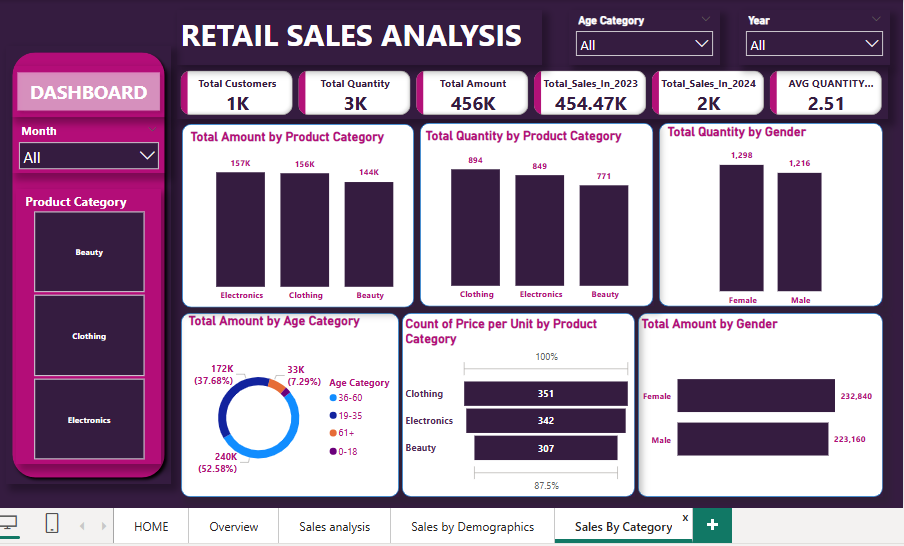

What the dashboard file says about the page in this screenshot:
{"tool":"powerbi","page":{"name":"Sales By Category","canvas":[1280,720],"ordinal":4},"visuals":[{"type":"shape","box":[258,443.6,309,260.8],"z":0},{"type":"slicer","fields":{"Values":["retail_sales_dataset.Age Category"]},"box":[808.1,14.4,213.6,77.9],"z":1000},{"type":"cardVisual","fields":{"Data":["All Kpi.Total Customers","All Kpi.Total Quantity","All Kpi.Total Amount","All Kpi.Total_Sales_In_2023","All Kpi.Total_Sales_In_2024","All Kpi.AVG QUANTITY SOLD"]},"box":[252.3,95,1007.7,73.7],"z":2000},{"type":"donutChart","fields":{"Y":["All Kpi.Total Amount"],"Category":["retail_sales_dataset.Age Category"]},"box":[263.6,443.6,303.3,276.4],"z":3000},{"type":"textbox","box":[252.5,14.4,516.6,77.9],"z":4000},{"type":"shape","box":[10.1,64.9,233.8,620.5],"z":5000},{"type":"actionButton","box":[17,93.5,219.7,72.3],"z":6000},{"type":"shape","box":[935.6,174.7,317.5,260.4],"z":7000},{"type":"slicer","fields":{"Values":["retail_sales_dataset.Product Category"]},"box":[24.1,267.9,205.5,389.8],"z":9000},{"type":"shape","box":[258.7,176.4,329.2,260.4],"z":10000},{"type":"clusteredColumnChart","fields":{"Category":["retail_sales_dataset.Product Category"],"Y":["All Kpi.Total Amount"]},"box":[267.1,183.1,337.6,253.6],"z":11000},{"type":"shape","box":[905.7,443.6,347.2,260.8],"z":12000},{"type":"columnChart","fields":{"Category":["retail_sales_dataset.Gender"],"Y":["All Kpi.Total Quantity"]},"box":[942.4,176.4,305.7,267.1],"z":13000},{"type":"barChart","fields":{"Category":["retail_sales_dataset.Gender"],"Y":["All Kpi.Total Amount"]},"box":[905.7,447.9,338.7,260.8],"z":14000},{"type":"slicer","fields":{"Values":["retail_sales_dataset.Month"]},"box":[18.4,168.7,218.3,76.5],"z":15000},{"type":"slicer","fields":{"Values":["retail_sales_dataset.Year"]},"box":[1048.8,14.2,214,78],"z":16000},{"type":"shape","box":[596.3,174.7,330.9,260.4],"z":17000},{"type":"clusteredColumnChart","fields":{"Category":["retail_sales_dataset.Product Category"],"Y":["All Kpi.Total Quantity"]},"box":[599.7,181.4,337.6,253.6],"z":18000},{"type":"shape","box":[571.2,443.6,330.2,260.8],"z":18001},{"type":"funnel","fields":{"Category":["retail_sales_dataset.Product Category"],"Y":["CountNonNull(retail_sales_dataset.Price per Unit)"]},"box":[571.2,447.9,330.2,255.1],"z":18002}]}

Visuals, with their boxes on the page's 1280x720 design canvas (x1, y1, x2, y2). These are canvas units, not pixel positions in the 904x546 screenshot, which may show the page scaled, cropped or inside an application window:
shape: locate(258, 444, 567, 704)
slicer - retail_sales_dataset.Age Category: locate(808, 14, 1022, 92)
cardVisual - All Kpi.Total Customers x All Kpi.Total Quantity: locate(252, 95, 1260, 169)
donutChart - All Kpi.Total Amount x retail_sales_dataset.Age Category: locate(264, 444, 567, 720)
textbox: locate(252, 14, 769, 92)
shape: locate(10, 65, 244, 685)
actionButton: locate(17, 94, 237, 166)
shape: locate(936, 175, 1253, 435)
slicer - retail_sales_dataset.Product Category: locate(24, 268, 230, 658)
shape: locate(259, 176, 588, 437)
clusteredColumnChart - retail_sales_dataset.Product Category x All Kpi.Total Amount: locate(267, 183, 605, 437)
shape: locate(906, 444, 1253, 704)
columnChart - retail_sales_dataset.Gender x All Kpi.Total Quantity: locate(942, 176, 1248, 444)
barChart - retail_sales_dataset.Gender x All Kpi.Total Amount: locate(906, 448, 1244, 709)
slicer - retail_sales_dataset.Month: locate(18, 169, 237, 245)
slicer - retail_sales_dataset.Year: locate(1049, 14, 1263, 92)
shape: locate(596, 175, 927, 435)
clusteredColumnChart - retail_sales_dataset.Product Category x All Kpi.Total Quantity: locate(600, 181, 937, 435)
shape: locate(571, 444, 901, 704)
funnel - retail_sales_dataset.Product Category x CountNonNull(retail_sales_dataset.Price per Unit): locate(571, 448, 901, 703)
